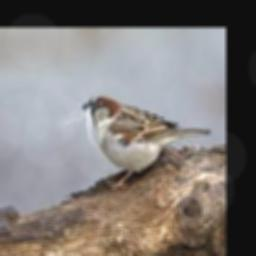Sparrow: (82, 93, 212, 188)
